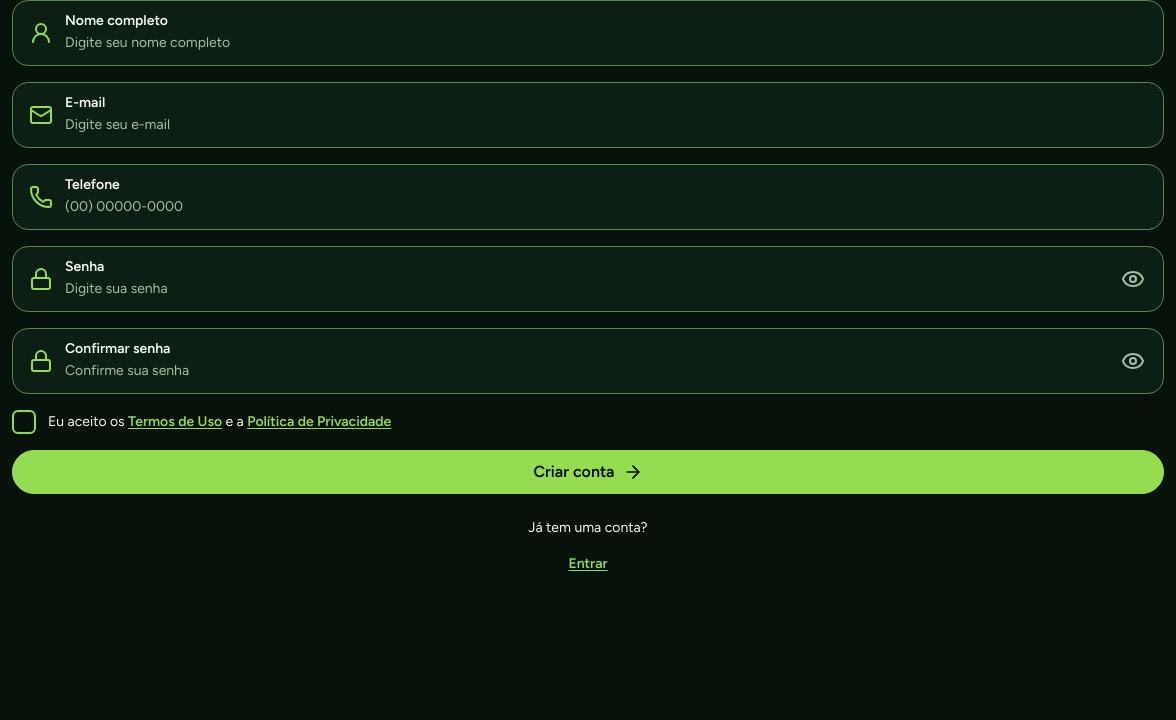
Scenario: CriarContaForm › o olho mostra e esconde cada senha
This screenshot has width=1176, height=720.
Click the 1st button named "Mostrar senha" at {"x": 1133, "y": 279}, box top-left (1111, 257), bottom-right (1155, 301)
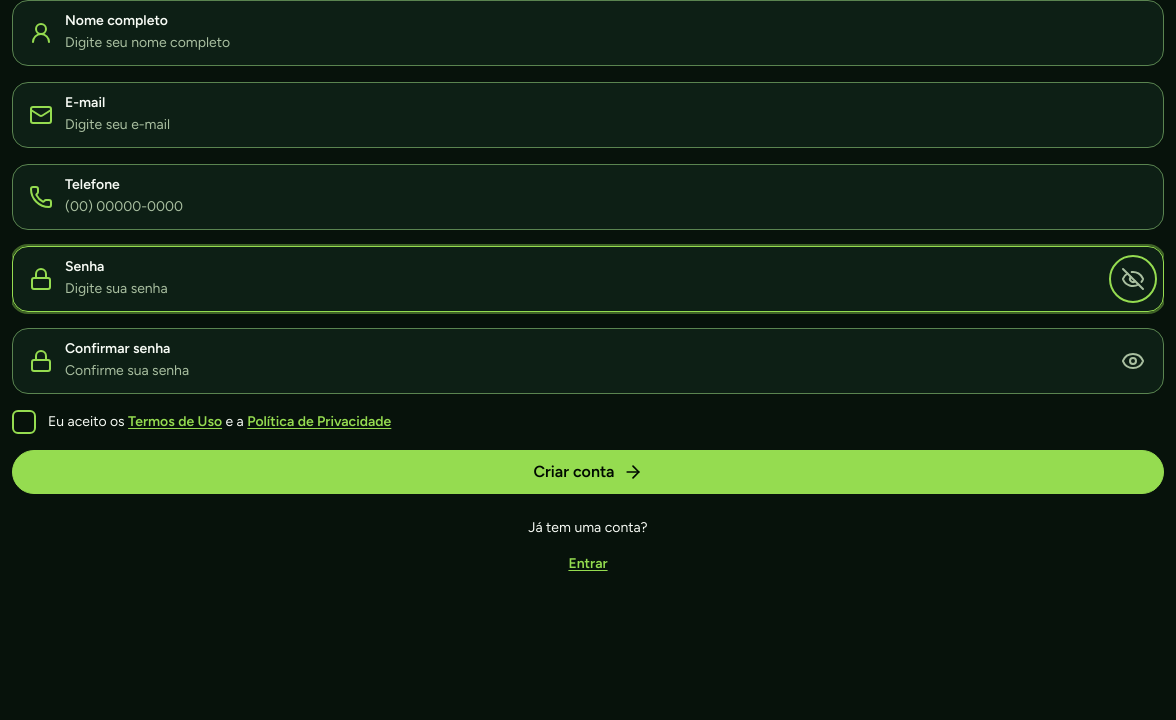
Result: the button named "Esconder senha" is shown at top-left (1111, 257), bottom-right (1155, 301)
